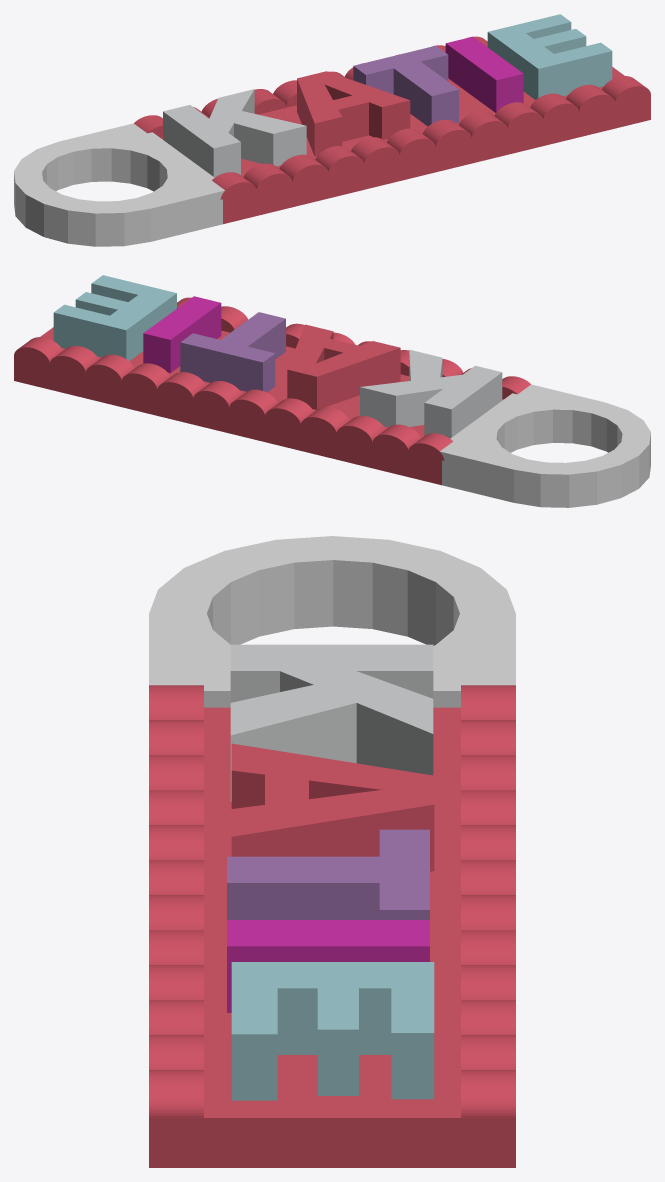
The model's file is key-ring-letters.glb.
3 views of the same model, one above another, from view 1: azimuth 30°, elevation 25°; view 2: azimuth 150°, elevation 25°; view 3: azimuth 270°, elevation 25° (orthographic). The views are drawn at different scales.
Visible parts, largest first — view 1: Mesh_Mesh_head_geo.001_lambert2SG.001; view 2: Mesh_Mesh_head_geo.001_lambert2SG.001; view 3: Mesh_Mesh_head_geo.001_lambert2SG.001.
Boxes of the visible parts, box(x1,y1,x2,y2) form: Mesh_Mesh_head_geo.001_lambert2SG.001: box(14, 14, 650, 246); Mesh_Mesh_head_geo.001_lambert2SG.001: box(14, 275, 650, 507); Mesh_Mesh_head_geo.001_lambert2SG.001: box(149, 536, 515, 1167).
Size of the model in its own units: 72.95 by 7 by 20.
